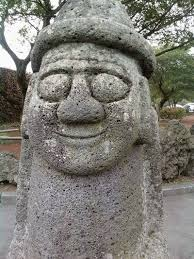Stone Statue: (10, 1, 174, 259)
